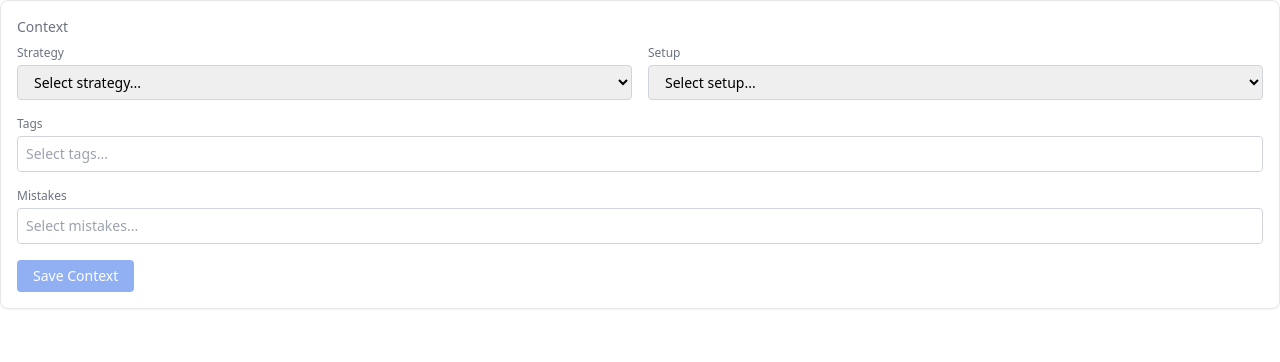
it: ContextSection — F4: Context selectors call correct mutation › shows error message when mutation fails
The width and height of the screenshot is (1280, 362).
Select "Trend Following" in the dropdown "Select strategy..." below "Strategy" at (324, 82), box [17,65,632,100]
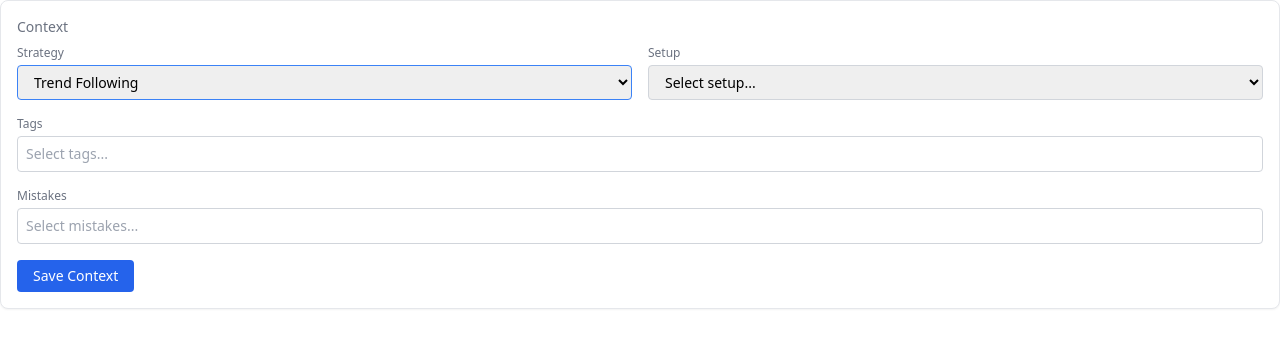
Click the button "Save Context" at (76, 276), box [17,260,134,292]
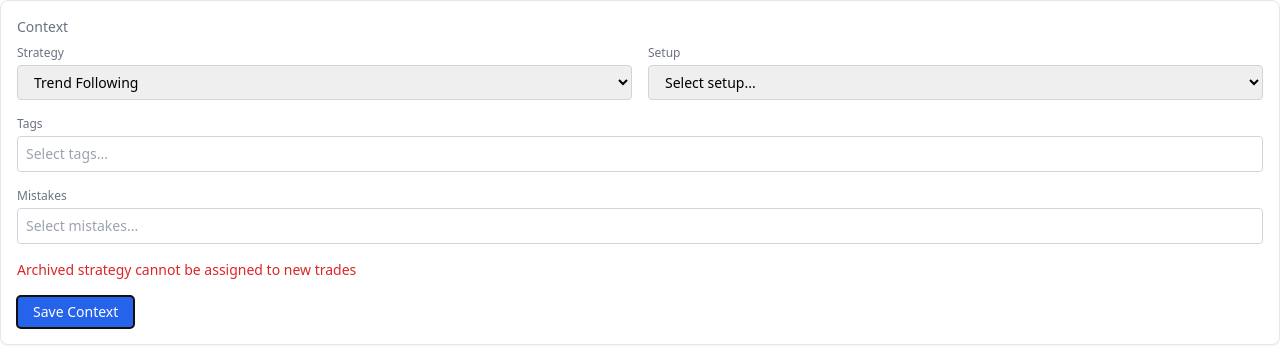
Check: the text "Archived strategy cannot be assigned to new trades" is shown, box [17,260,356,279]
